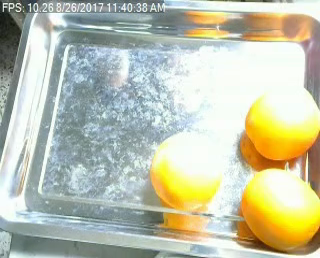Orange: (241, 168, 320, 252)
